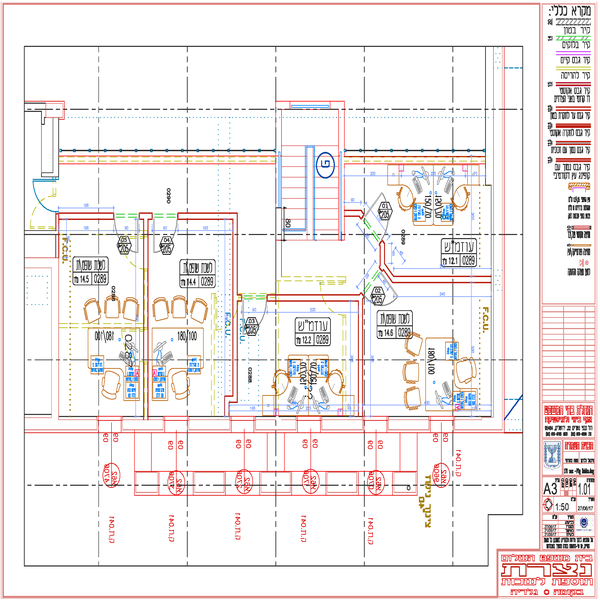door: (359, 266, 407, 314), (362, 184, 400, 240), (237, 289, 275, 339), (149, 213, 183, 260), (107, 214, 140, 254), (27, 178, 61, 216)
wall: (488, 49, 507, 431), (227, 216, 247, 404), (388, 274, 496, 285), (268, 292, 364, 304), (250, 416, 303, 435), (173, 208, 236, 223), (386, 417, 433, 437), (57, 211, 114, 223)
